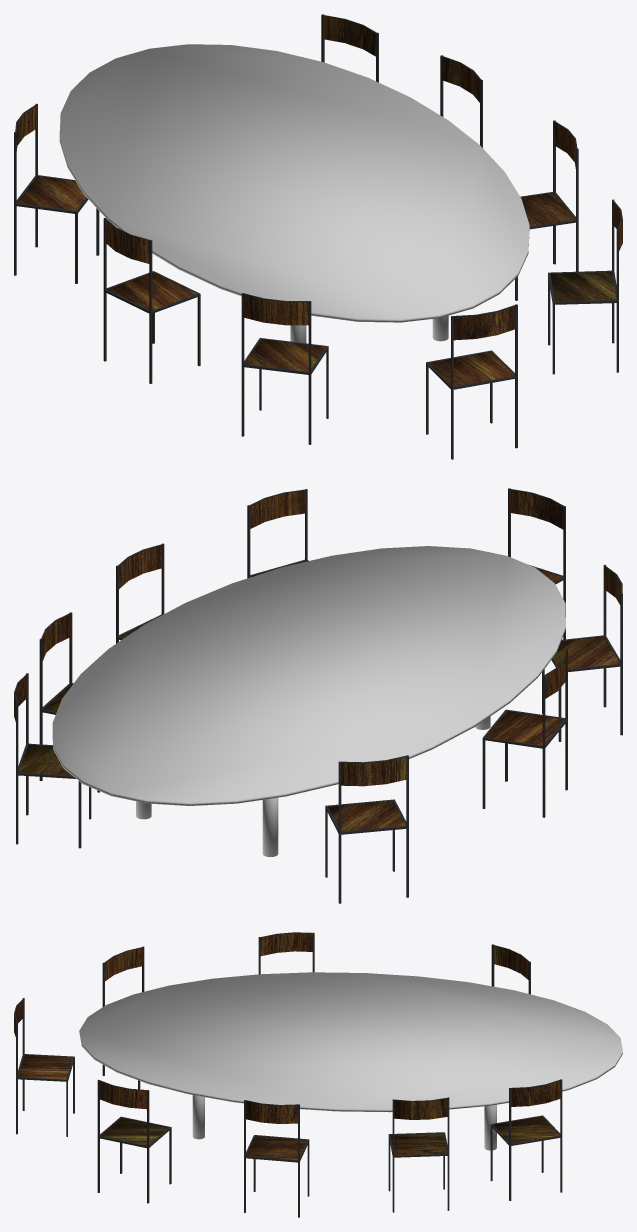
File: salle_reu02.obj
The picture shows the model from 3 angles, top to bottom: view 1: azimuth 30°, elevation 25°; view 2: azimuth 150°, elevation 25°; view 3: azimuth 270°, elevation 25°; orthographic projection. The views are drawn at different scales.
Parts seen in each view (by area): view 1: table_salle_reu; view 2: table_salle_reu; view 3: table_salle_reu.
Boxes of the visible parts, x1,y1,x2,y2 form: table_salle_reu: [14, 14, 622, 459]; table_salle_reu: [14, 488, 622, 903]; table_salle_reu: [14, 932, 622, 1217].
Bounding box in the file's own units: 7.52 × 2.37 × 11.35.
3 materials, 2 textured.
